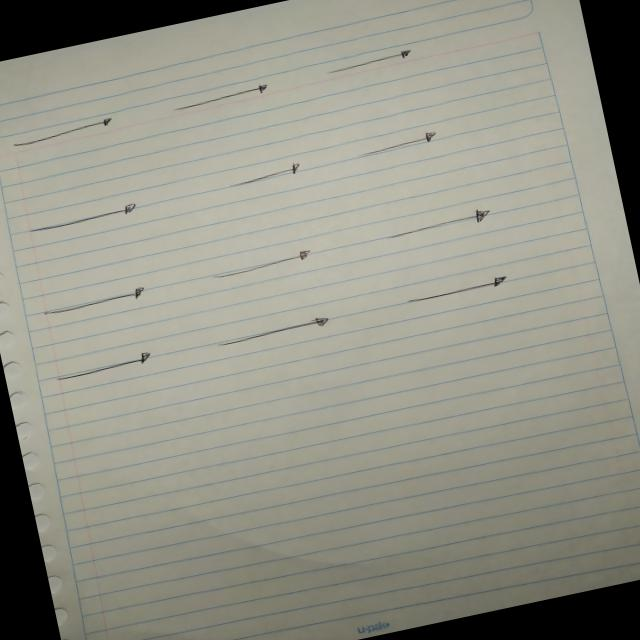arrow_line_right: (12, 187, 166, 246), (198, 304, 346, 361), (394, 266, 528, 321), (371, 201, 510, 253), (0, 106, 127, 161), (28, 278, 154, 328), (202, 148, 318, 202), (339, 122, 462, 170), (47, 342, 165, 390), (160, 75, 282, 121), (198, 244, 316, 286), (312, 44, 416, 82)
